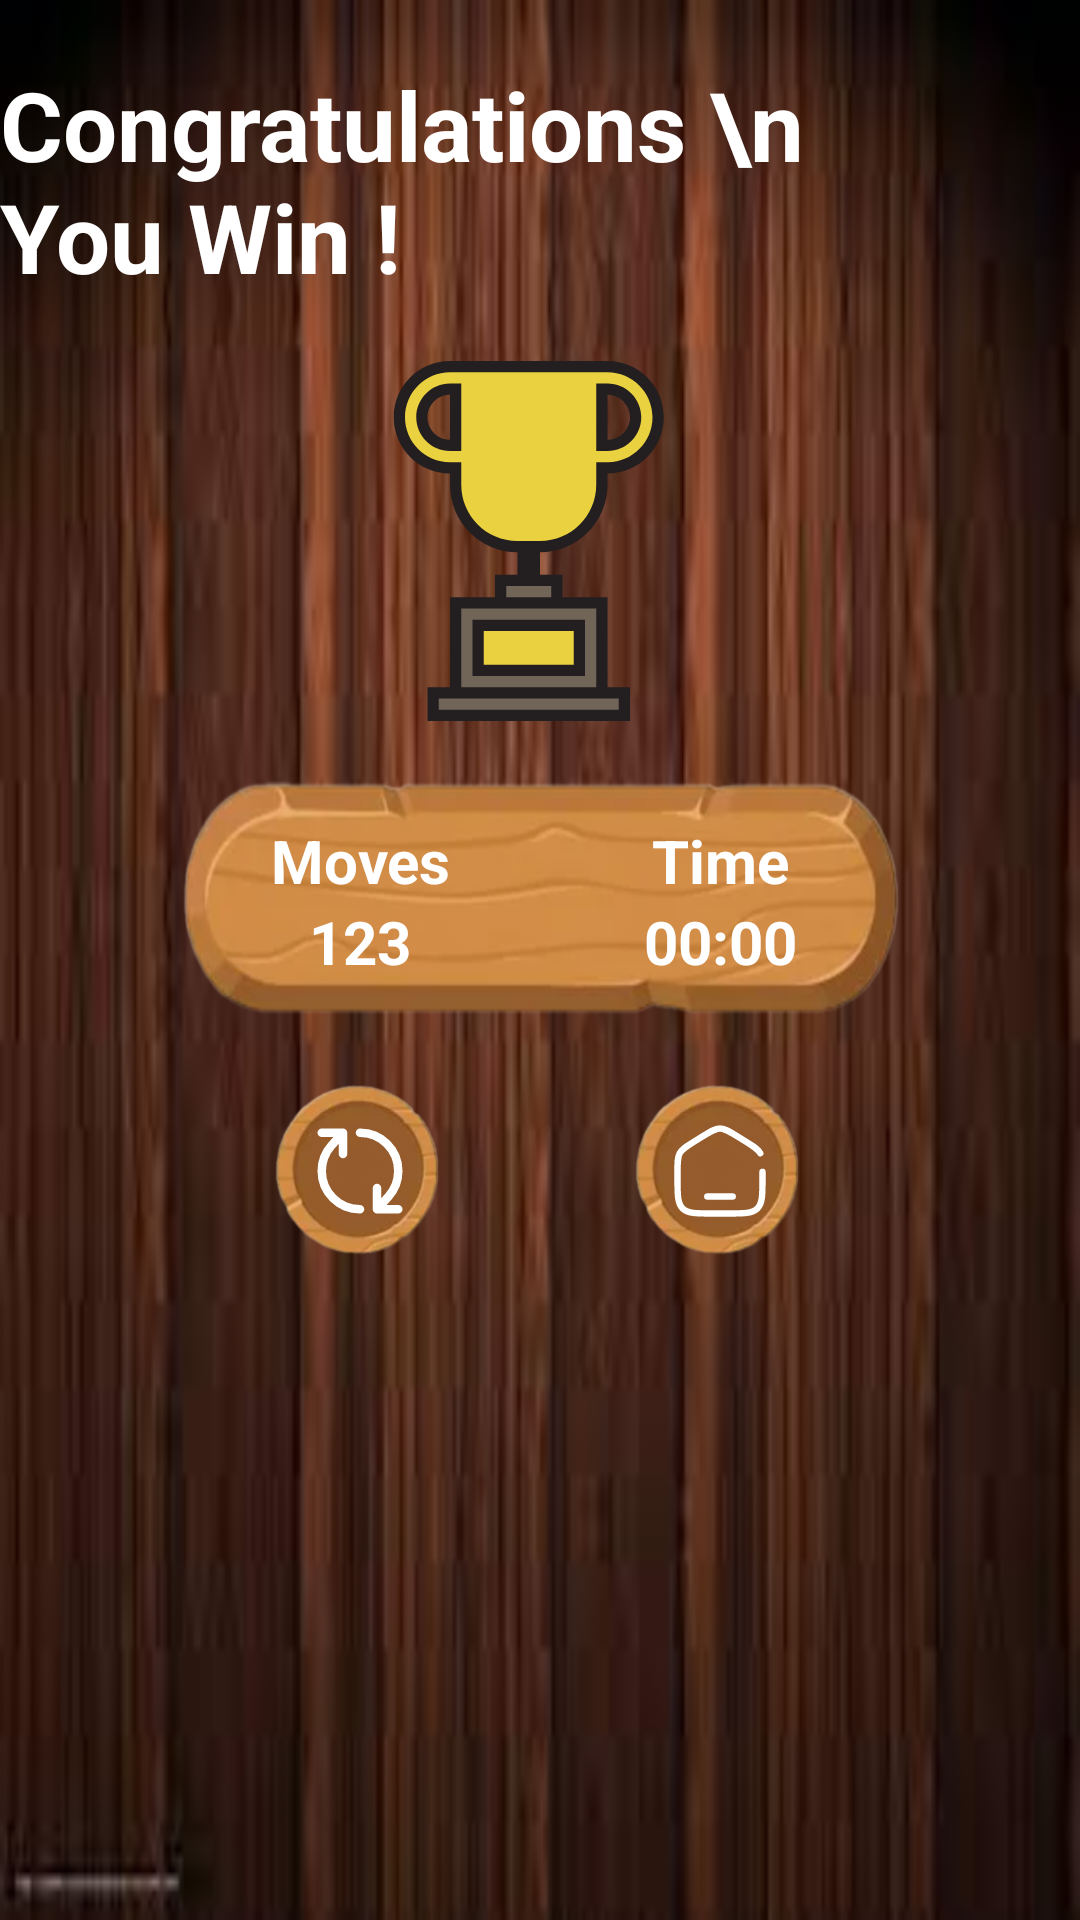

Named icons in this screenshot (1080*1920) and their bounding boxes, (x1, y1, x2, y2):
home: (636, 1081, 801, 1261)
refresh: (276, 1081, 449, 1261)
